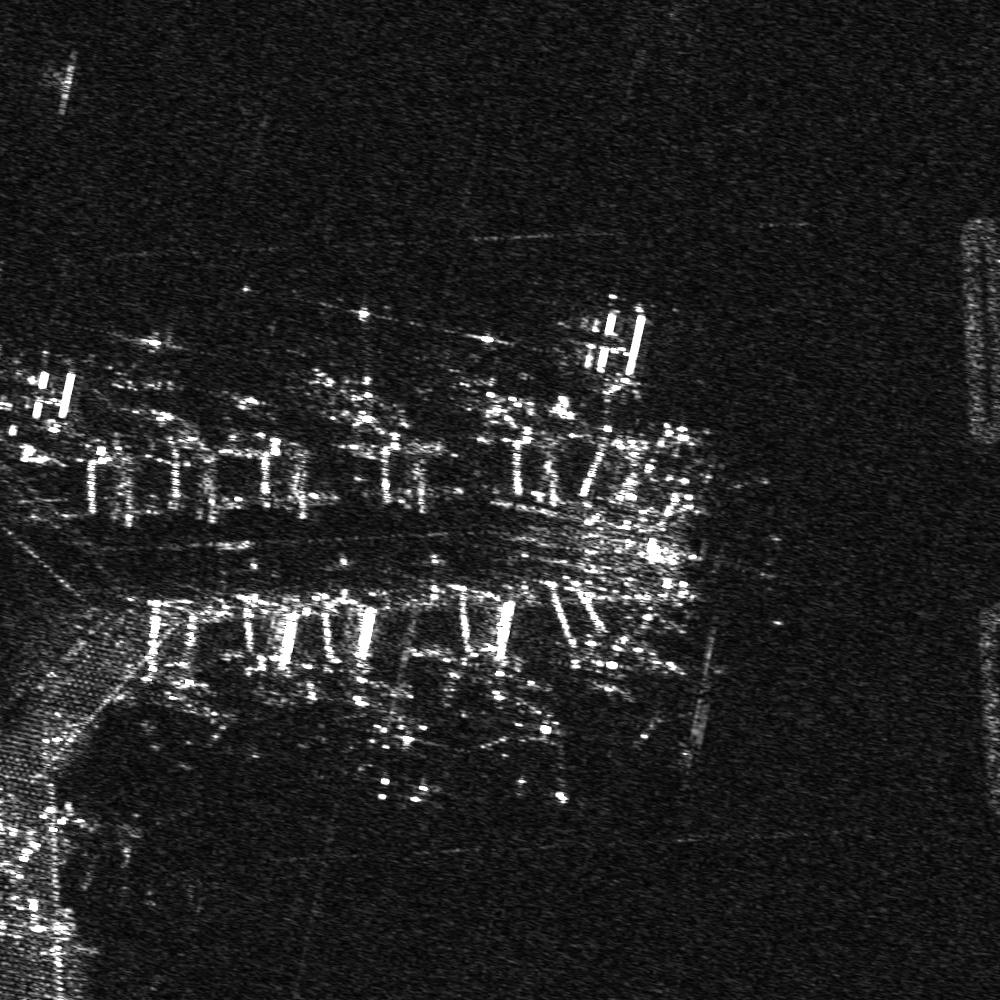A220: (85, 317, 196, 405)
A320/321: (283, 291, 396, 406), (346, 716, 452, 813), (427, 317, 531, 405), (620, 692, 709, 775)
Boeing737: (475, 707, 590, 802)
